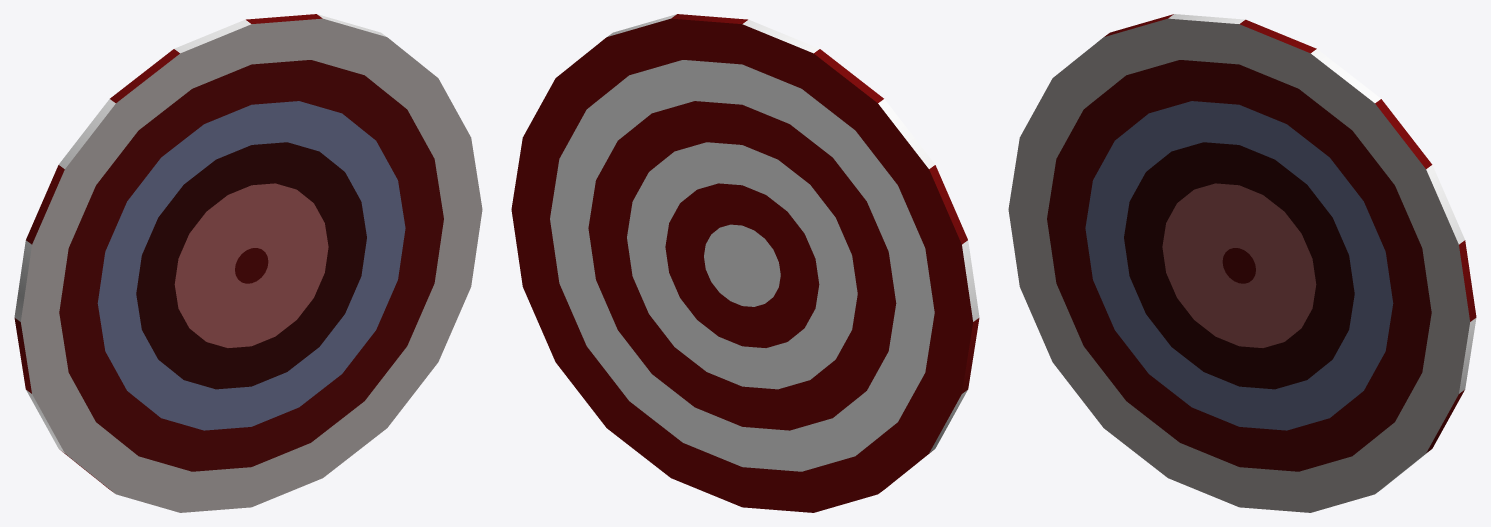
Rendered from targetVertical.fbx.
The picture shows the model from 3 angles, left to right: view 1: azimuth 30°, elevation 25°; view 2: azimuth 150°, elevation 25°; view 3: azimuth 330°, elevation 25°; orthographic projection.
Visible parts, largest first — view 1: pCylinder2; view 2: pCylinder2; view 3: pCylinder2.
Boxes of the visible parts, <box> form: pCylinder2: <box>14,14,482,512</box>; pCylinder2: <box>511,14,979,512</box>; pCylinder2: <box>1008,14,1476,512</box>.
Size of the model in its own units: 12 by 12 by 0.2842.
